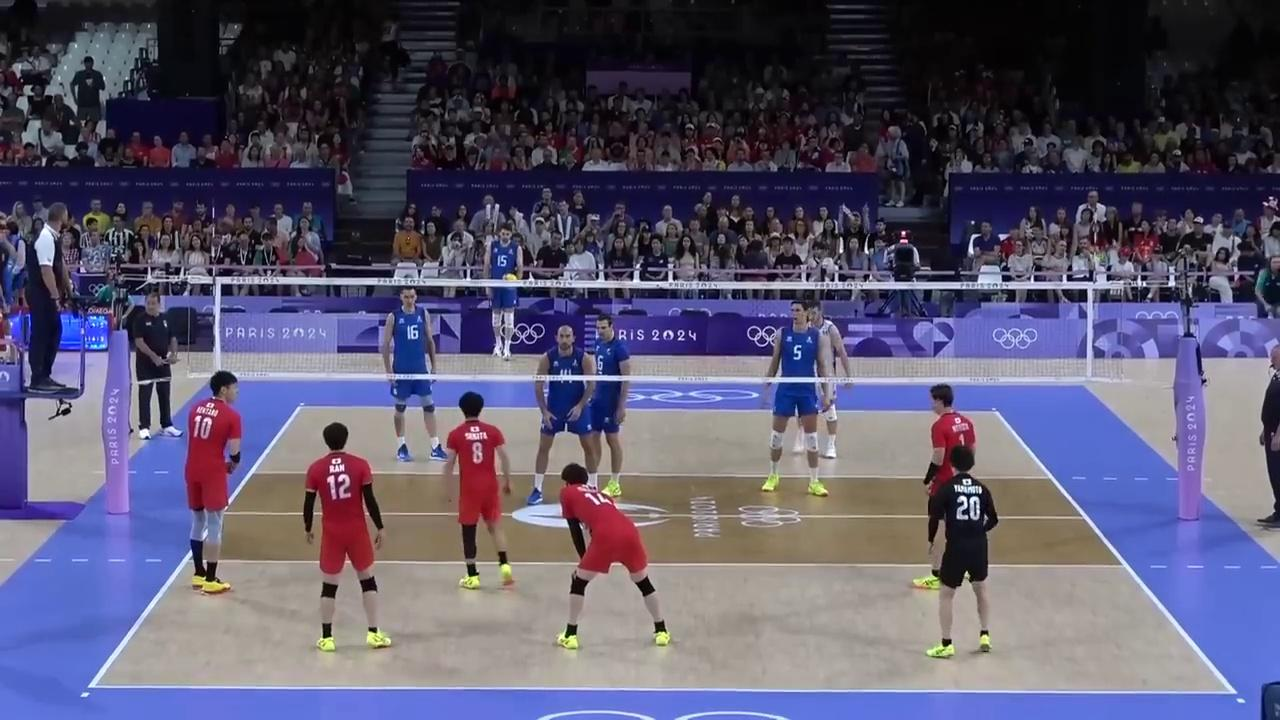ball: (503, 272, 518, 283)
